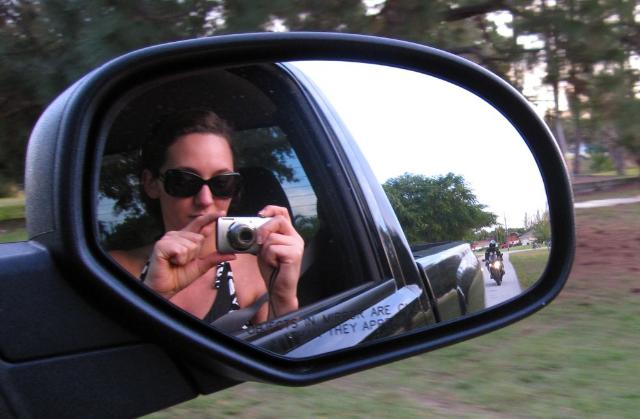Seatbelt: (207, 295, 270, 334)
